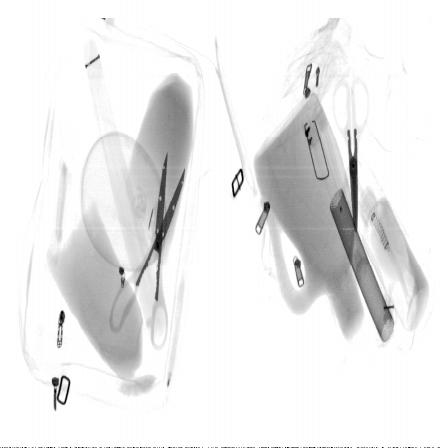Scissors: (110, 150, 186, 350), (330, 70, 370, 234)
